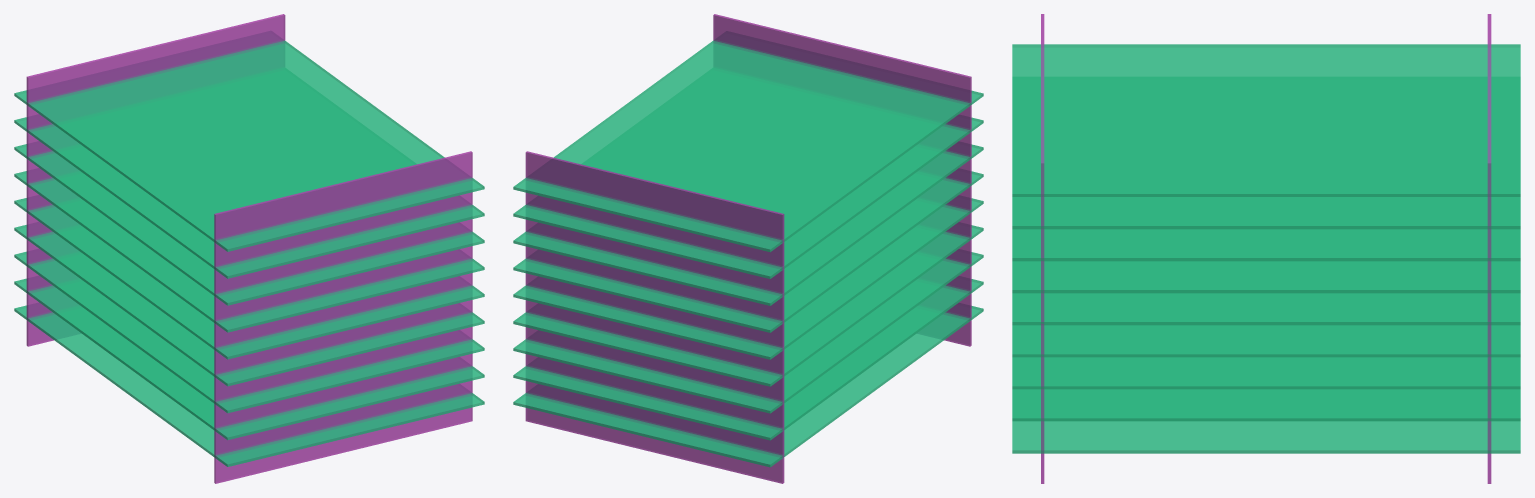
File: simple_1.glb
3 views of the same model, side by side, from view 1: azimuth 30°, elevation 25°; view 2: azimuth 150°, elevation 25°; view 3: azimuth 270°, elevation 25° (orthographic). The views are drawn at different scales.
Visible parts, largest first — view 1: Cube.001, Cube.002, Cube.003, Cube.017, Cube.019, Cube.014, Cube.015, Cube.013, Cube.020, Cube.016, Cube.018; view 2: Cube.001, Cube.003, Cube.002, Cube.015, Cube.018, Cube.013, Cube.020, Cube.017, Cube.014, Cube.019, Cube.016; view 3: Cube.001, Cube.020, Cube.019, Cube.018, Cube.017, Cube.016, Cube.015, Cube.014, Cube.013, Cube.003, Cube.002.
Boxes of the visible parts, x1,y1,x2,y2 form: Cube.001: [14, 40, 484, 251]; Cube.002: [214, 151, 472, 483]; Cube.003: [26, 14, 285, 346]; Cube.017: [14, 117, 484, 278]; Cube.019: [14, 251, 484, 413]; Cube.014: [14, 198, 484, 359]; Cube.015: [14, 171, 484, 332]; Cube.013: [14, 305, 484, 466]; Cube.020: [14, 278, 484, 440]; Cube.016: [14, 144, 484, 305]; Cube.018: [14, 225, 484, 386]; Cube.001: [513, 40, 983, 252]; Cube.003: [525, 151, 784, 483]; Cube.002: [713, 14, 971, 346]; Cube.015: [513, 171, 983, 332]; Cube.018: [513, 225, 983, 386]; Cube.013: [513, 306, 983, 467]; Cube.020: [513, 279, 983, 440]; Cube.017: [513, 117, 983, 278]; Cube.014: [513, 198, 983, 359]; Cube.019: [513, 252, 983, 413]; Cube.016: [513, 144, 983, 305]; Cube.001: [1012, 44, 1520, 196]; Cube.020: [1012, 389, 1520, 421]; Cube.019: [1012, 357, 1520, 389]; Cube.018: [1012, 325, 1520, 357]; Cube.017: [1012, 197, 1520, 229]; Cube.016: [1012, 229, 1520, 261]; Cube.015: [1012, 261, 1520, 293]; Cube.014: [1012, 293, 1520, 325]; Cube.013: [1012, 421, 1520, 453]; Cube.003: [1487, 14, 1491, 483]; Cube.002: [1041, 14, 1044, 483].
Bounding box in the file's own units: 2 × 2 × 2.87.
